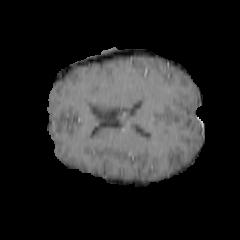glioma: (82, 83, 162, 105)
